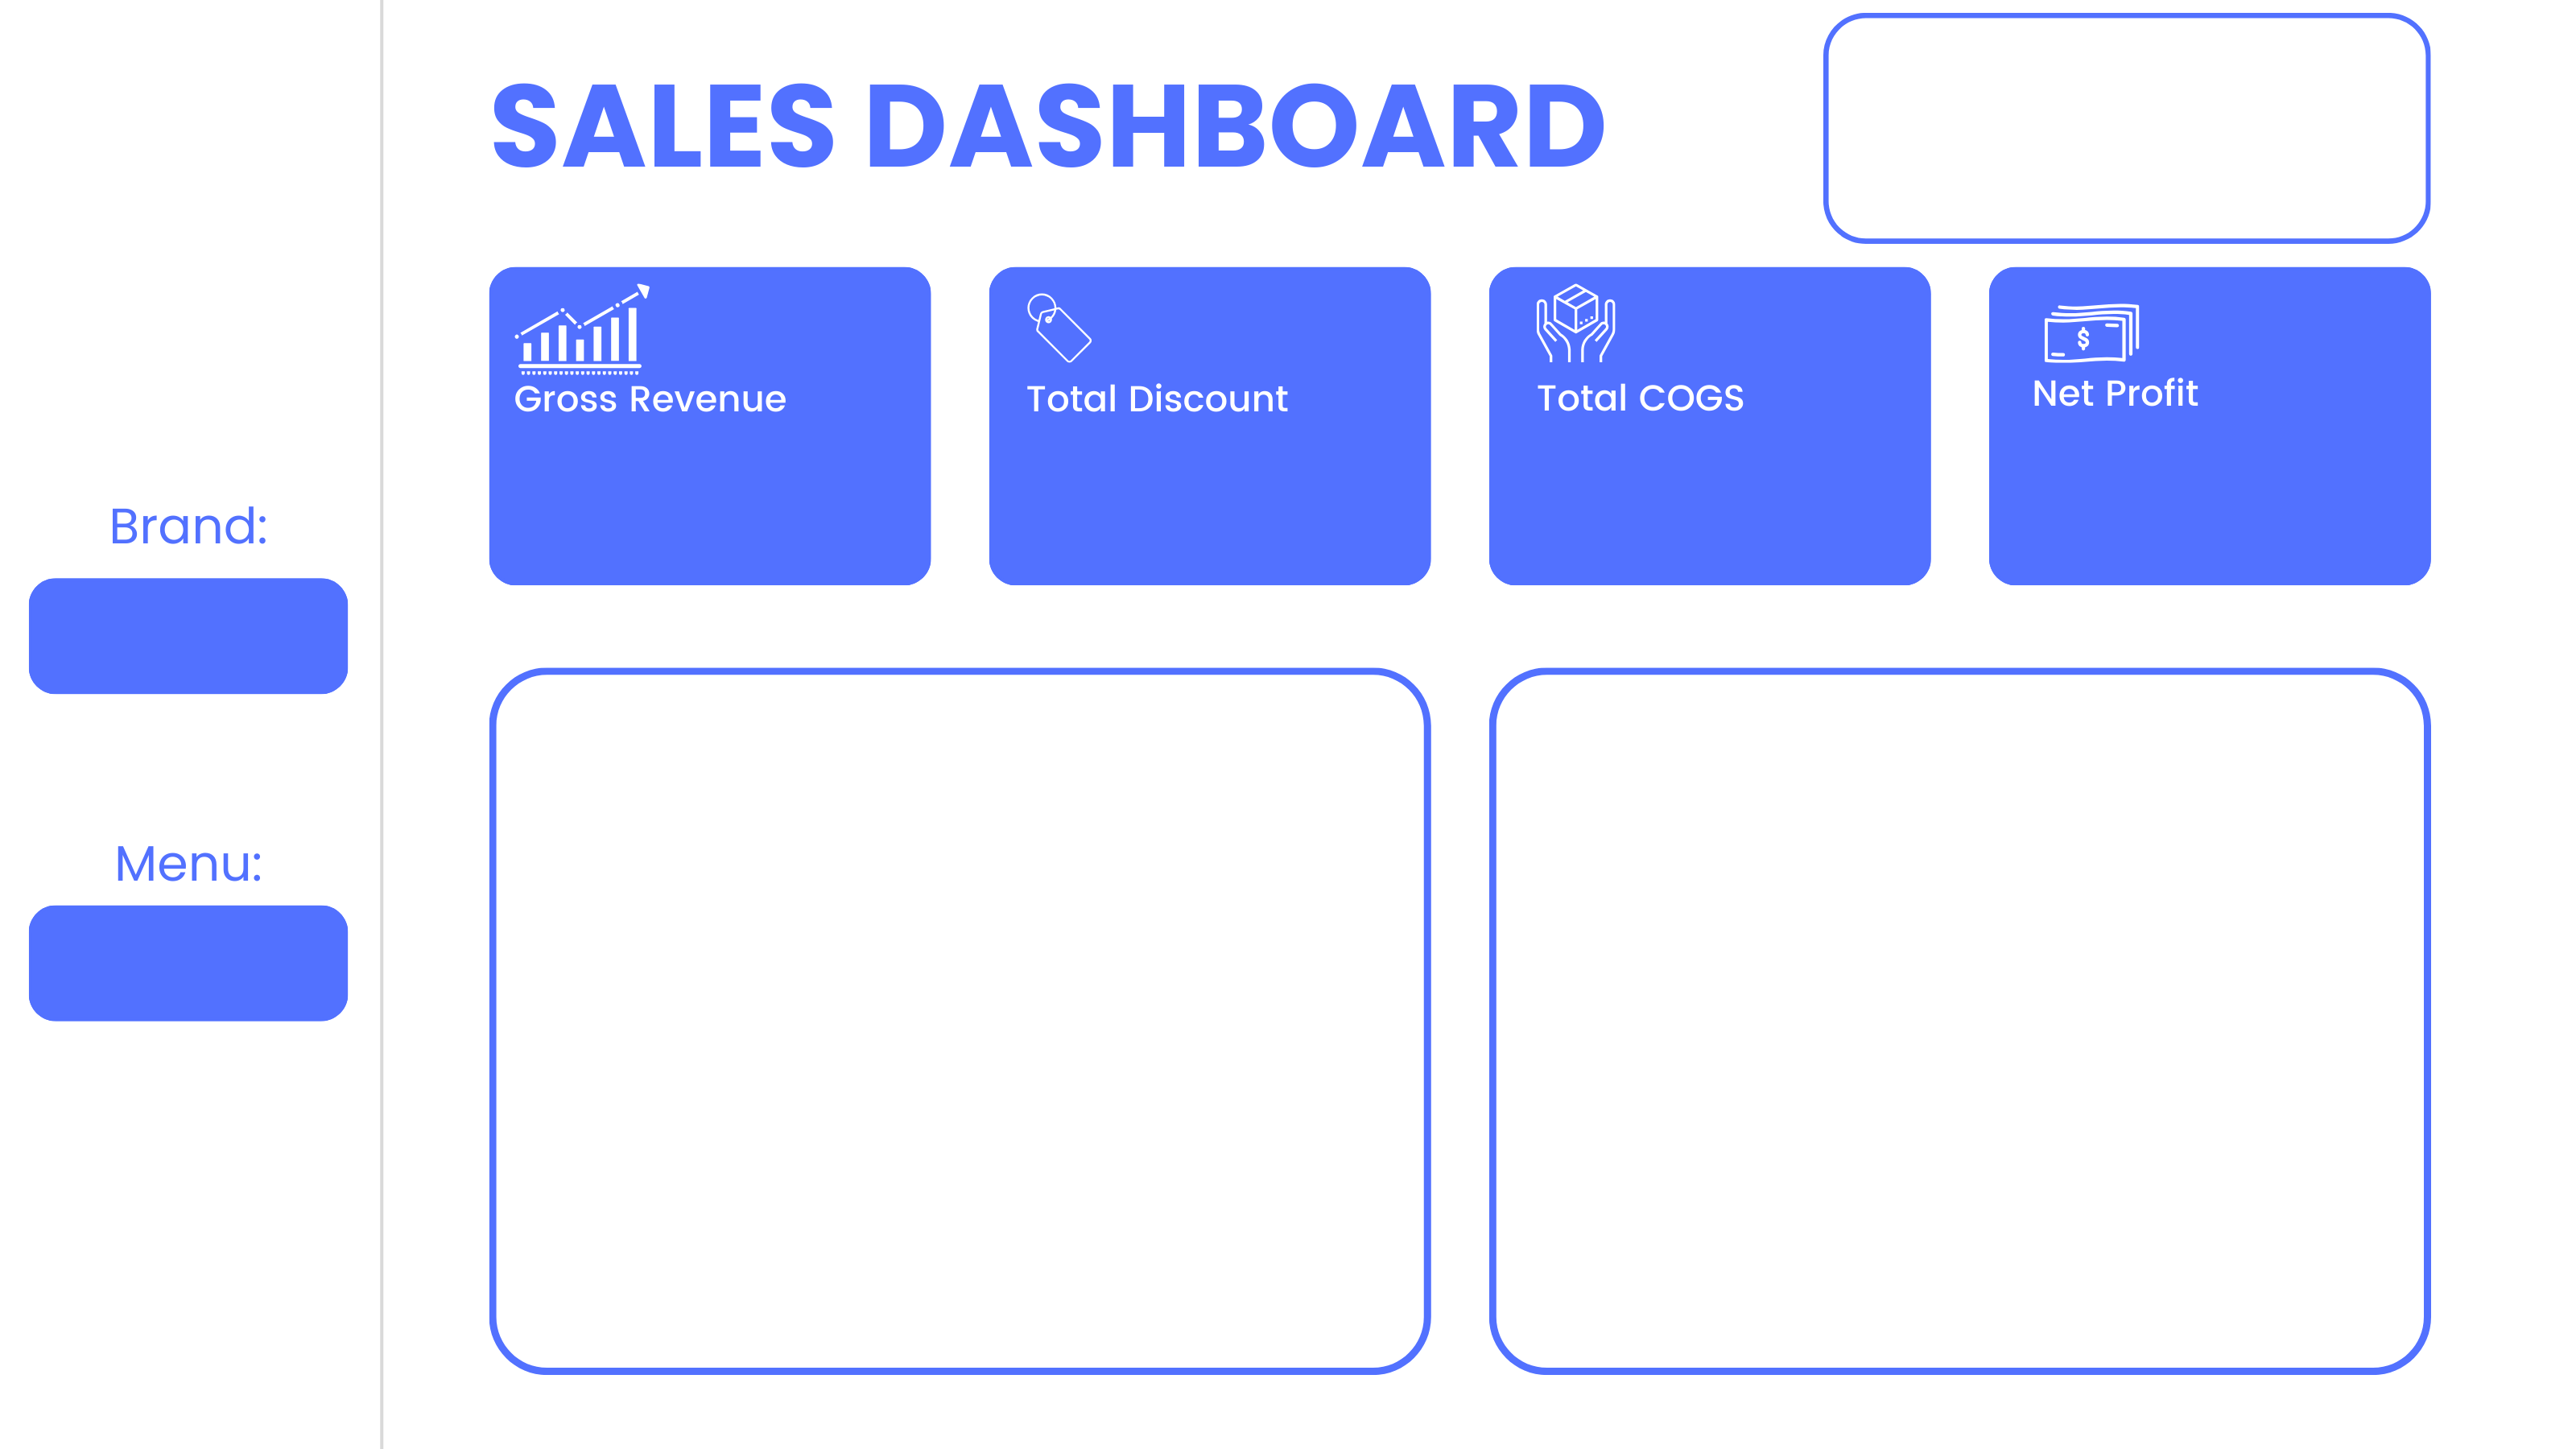

The page's visual inventory and layout, read from the dashboard file:
{"tool":"powerbi","page":{"name":"Page 1","canvas":[1280,720],"ordinal":0},"visuals":[{"type":"card","fields":{"Values":["Sum(staging daily_sales_transaction.total_price_befdisc)"]},"box":[252.9,195.7,195.7,88.6],"z":0},{"type":"card","fields":{"Values":["Sum(staging daily_sales_transaction.disc_value)"]},"box":[498.6,197.1,207.1,87.1],"z":1000},{"type":"card","fields":{"Values":["Sum(staging daily_sales_transaction.total_cogs)"]},"box":[765.7,200,161.4,74.3],"z":2000},{"type":"card","fields":{"Values":["staging daily_sales_transaction.net_profit"]},"box":[1025.7,200,151.4,77.1],"z":3000},{"type":"slicer","fields":{"Values":["staging daily_sales_transaction.sales_date"]},"box":[910,28.5,292.3,89.2],"z":4000},{"type":"slicer","fields":{"Values":["staging daily_sales_transaction.brand"]},"box":[14,287,162,63],"z":5000},{"type":"slicer","fields":{"Values":["staging daily_sales_transaction.name"]},"box":[14,452,162,46],"z":6000},{"type":"textbox","box":[983.6,8.6,147.1,38.6],"z":7000},{"type":"lineChart","title":"Net Profit and Discount Cost by Date","fields":{"Y":["staging daily_sales_transaction.net_profit"],"Category":["staging daily_sales_transaction.sales_date.Variation.Date Hierarchy.Year","staging daily_sales_transaction.sales_date.Variation.Date Hierarchy.Quarter","staging daily_sales_transaction.sales_date.Variation.Date Hierarchy.Month","staging daily_sales_transaction.sales_date.Variation.Date Hierarchy.Day"],"Y2":["Sum(staging daily_sales_transaction.disc_value)"]},"box":[252.9,360,452.9,261.4],"z":8000},{"type":"treemap","title":"Net Profit Segmentation by Menu","fields":{"Values":["staging daily_sales_transaction.net_profit"],"Group":["staging daily_sales_transaction.name"]},"box":[766.2,360,411.2,290],"z":9000}]}

Visuals, with their boxes in screenshot pixels (x1, y1, x2, y2), scaled from the page's 1280x720 canvas onto the 2576x1449 screenshot:
card - Sum(staging daily_sales_transaction.total_price_befdisc): 509,394,903,572
card - Sum(staging daily_sales_transaction.disc_value): 1003,397,1420,572
card - Sum(staging daily_sales_transaction.total_cogs): 1541,402,1866,552
card - staging daily_sales_transaction.net_profit: 2064,402,2369,558
slicer - staging daily_sales_transaction.sales_date: 1831,57,2420,237
slicer - staging daily_sales_transaction.brand: 28,578,354,704
slicer - staging daily_sales_transaction.name: 28,910,354,1002
textbox: 1979,18,2276,95
"Net Profit and Discount Cost by Date" lineChart: 509,724,1420,1251
"Net Profit Segmentation by Menu" treemap: 1542,724,2370,1308
